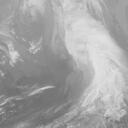cyclone: (59, 22, 122, 91)
